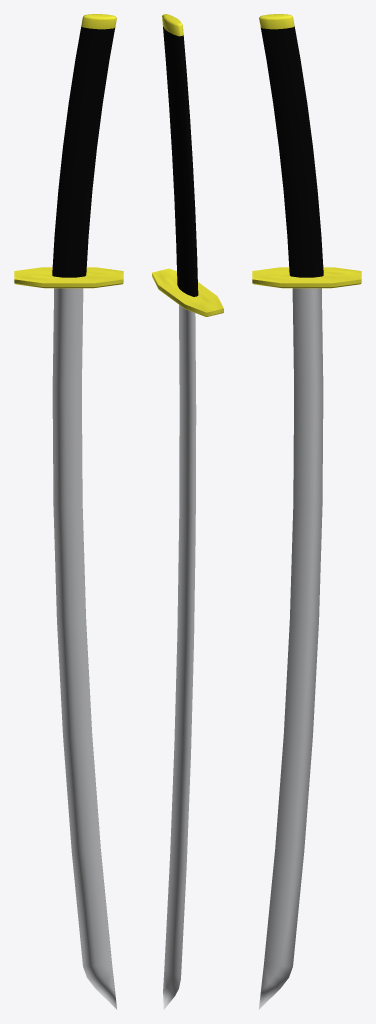
Rendered from Katana.fbx.
3 renders of one model, left to right at view 1: azimuth 90°, elevation 25°; view 2: azimuth 210°, elevation 25°; view 3: azimuth 270°, elevation 25°, orthographic.
Parts seen in each view (by area): view 1: Katana; view 2: Katana; view 3: Katana.
Part boxes in pixels (x1,y1,x2,y2): Katana: (14,14,123,1009); Katana: (152,14,223,1009); Katana: (252,14,361,1009).
Size of the model in its own units: 0.1376 by 4 by 0.398.
Materials: 1 (1 with a texture image).
